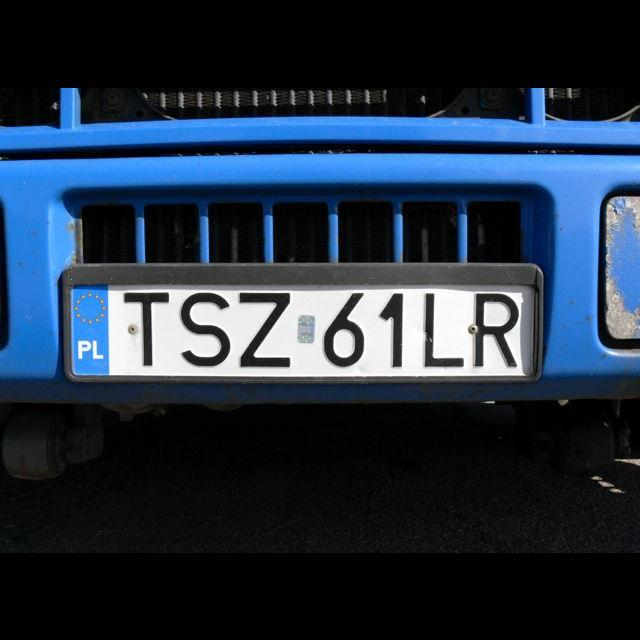license-plates: (71, 286, 536, 380)
